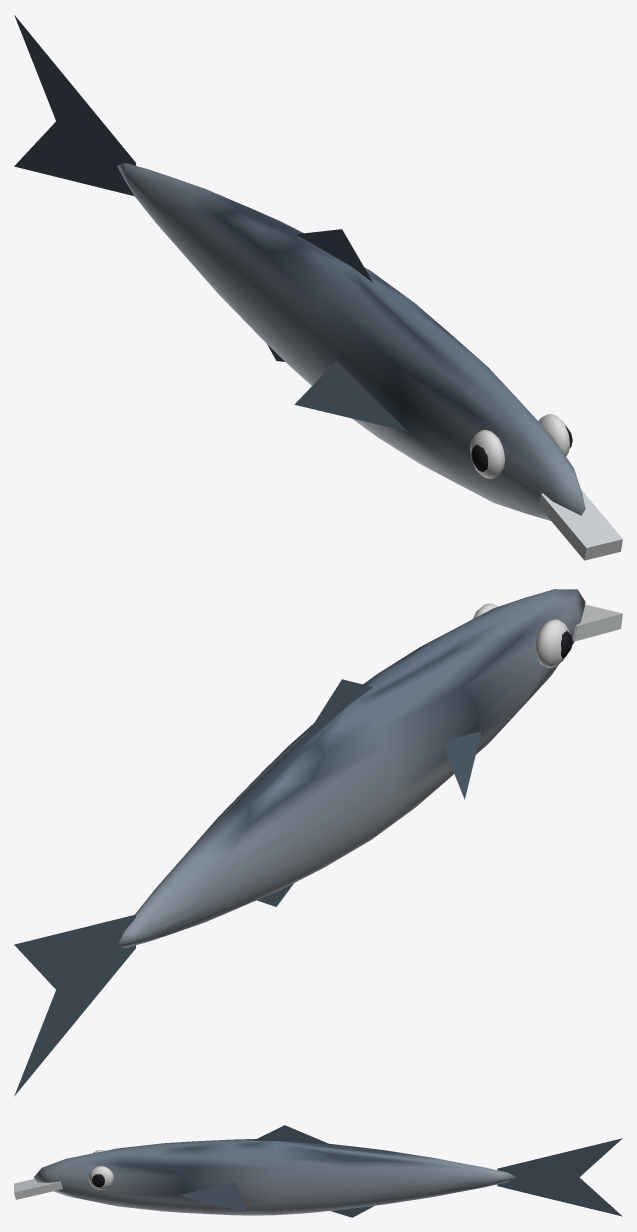
Rendered from barrakuda-hncuZbfS.glb.
3 renders of one model, top to bottom at view 1: azimuth 30°, elevation 25°; view 2: azimuth 150°, elevation 25°; view 3: azimuth 270°, elevation 25°, orthographic. The views are drawn at different scales.
Parts seen in each view (by area): view 1: barrakuda; view 2: barrakuda; view 3: barrakuda.
Part boxes in pixels (bbox=[...]): barrakuda: bbox=[14, 15, 622, 560]; barrakuda: bbox=[14, 589, 622, 1096]; barrakuda: bbox=[14, 1125, 622, 1217].
Bounding box in the file's own units: 0.21 × 0.2118 × 1.26.
